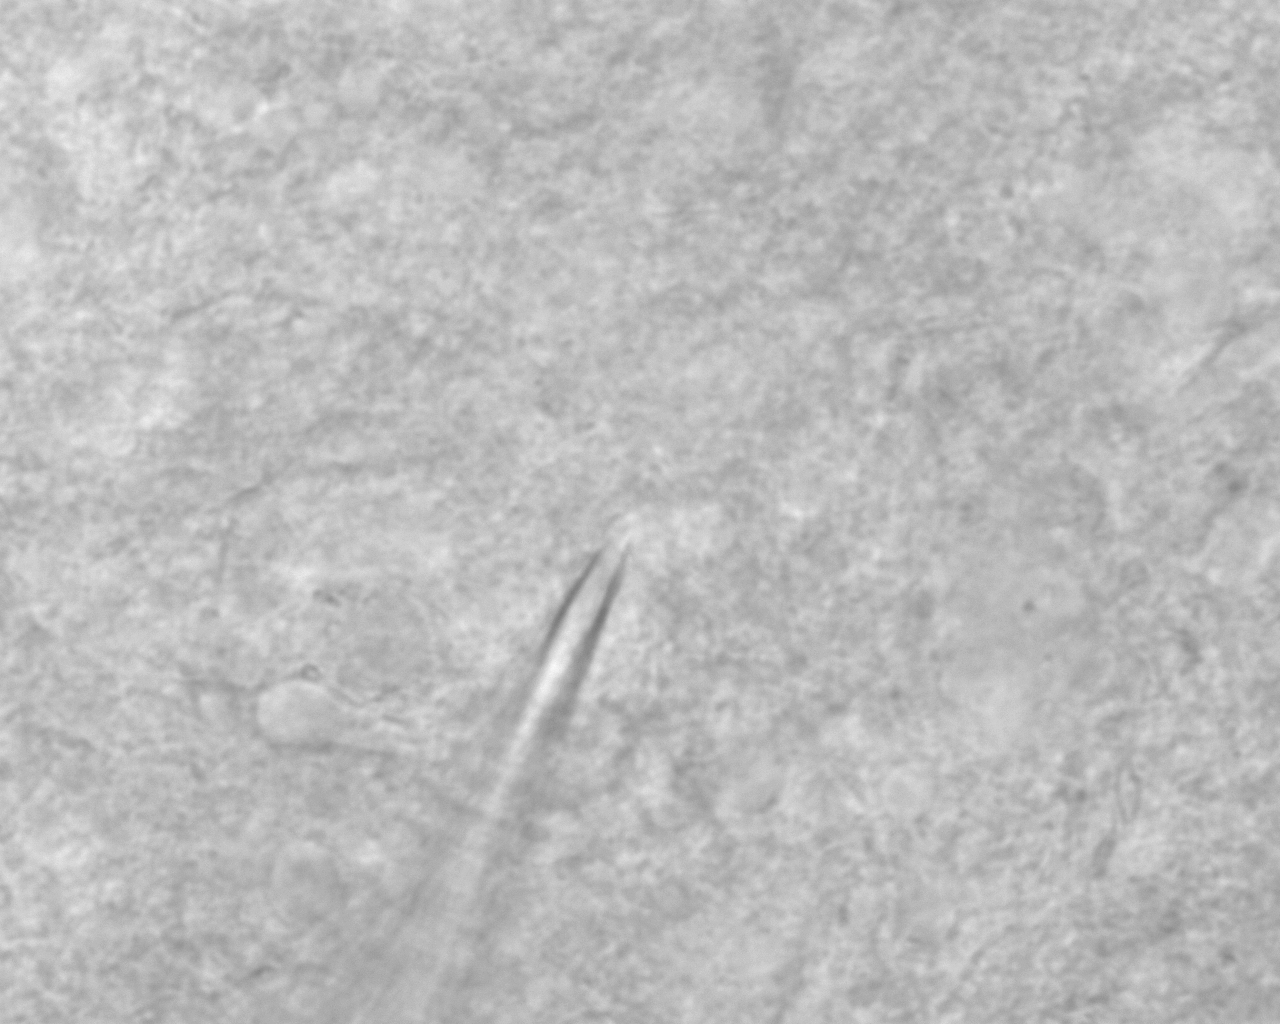neuron: (242, 662, 366, 764)
